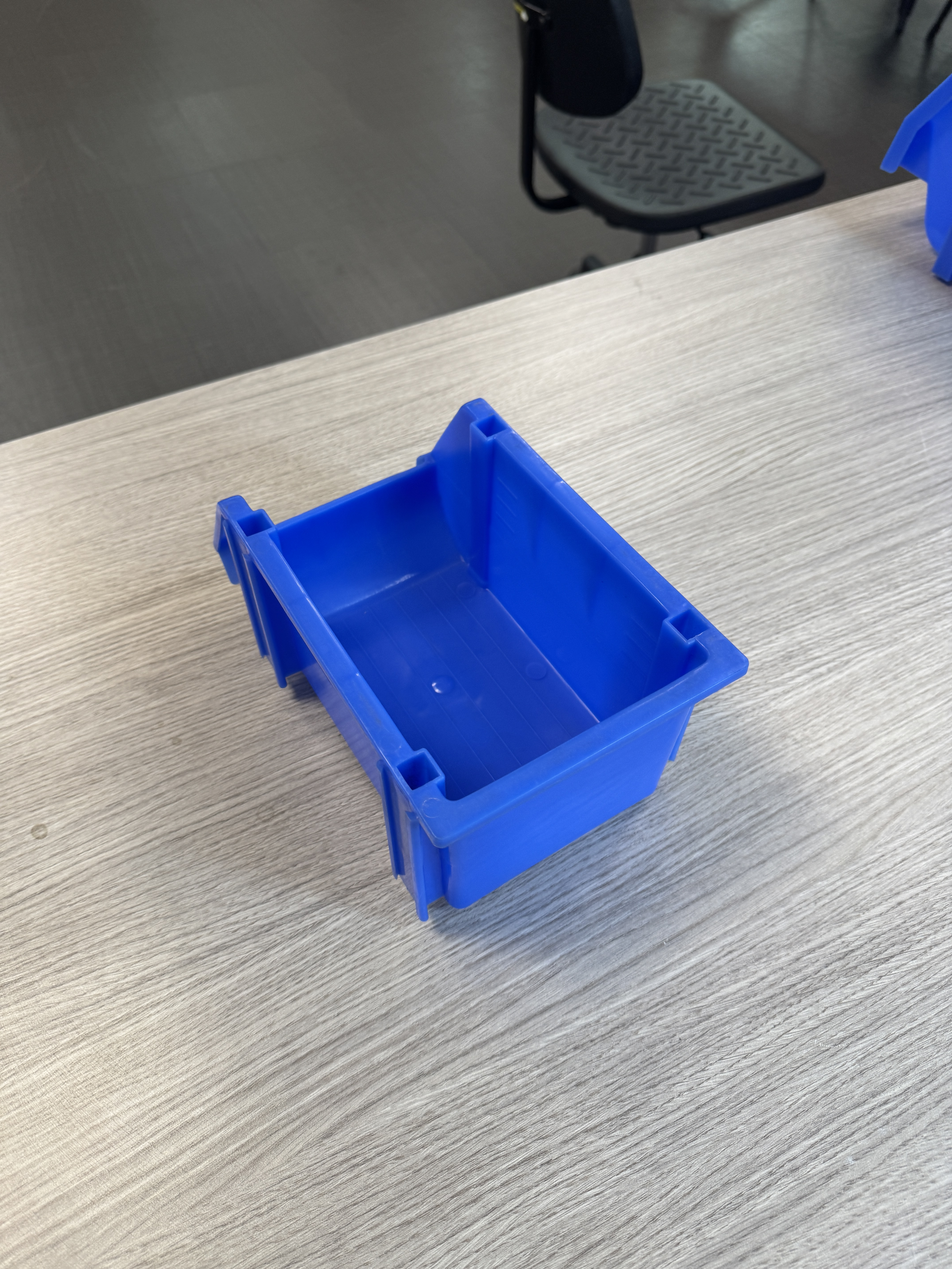Bin Boundary: (275, 372, 704, 814)
